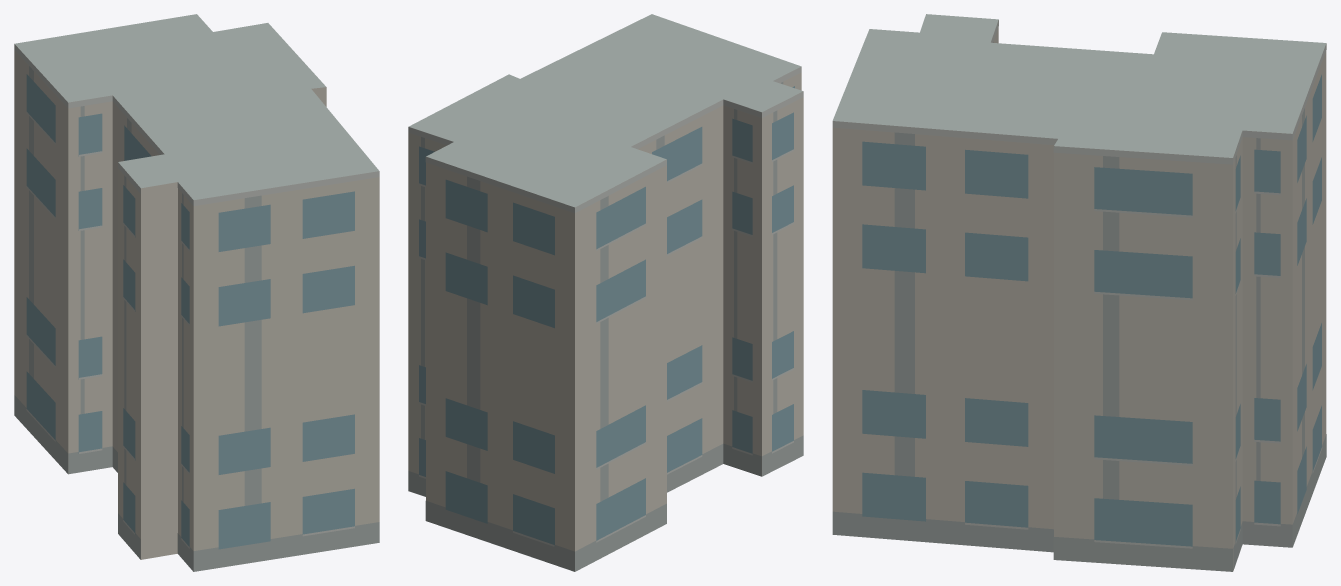
Rendered from survey-upis-33035645.glb.
3 renders of one model, left to right at view 1: azimuth 30°, elevation 25°; view 2: azimuth 150°, elevation 25°; view 3: azimuth 270°, elevation 25°, orthographic. The views are drawn at different scales.
Visible parts, largest first — view 1: survey-upis-33035645.tmp; view 2: survey-upis-33035645.tmp; view 3: survey-upis-33035645.tmp.
Boxes of the visible parts, x1,y1,x2,y2 form: survey-upis-33035645.tmp: (14,14,379,571); survey-upis-33035645.tmp: (408,14,803,571); survey-upis-33035645.tmp: (832,14,1326,571).
Bounding box in the file's own units: 11.4 × 15.25 × 16.51.
